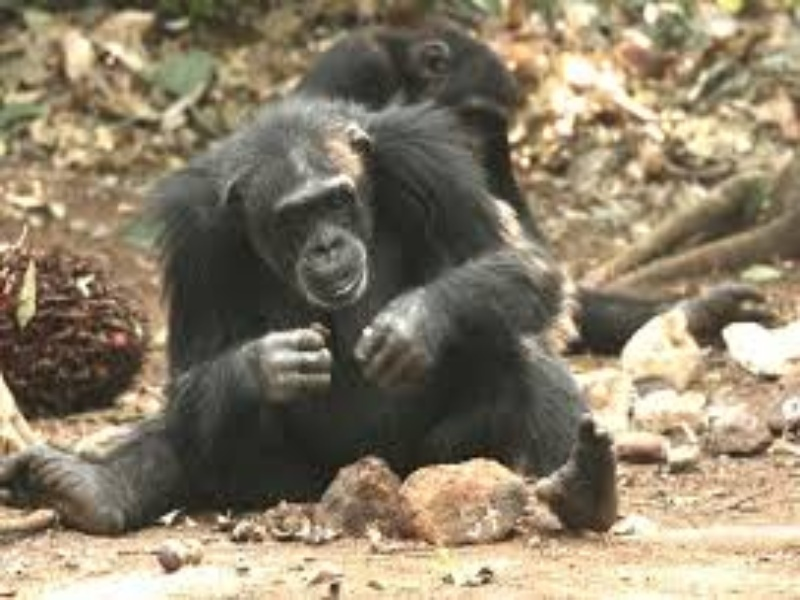monkey: (145, 93, 617, 565)
